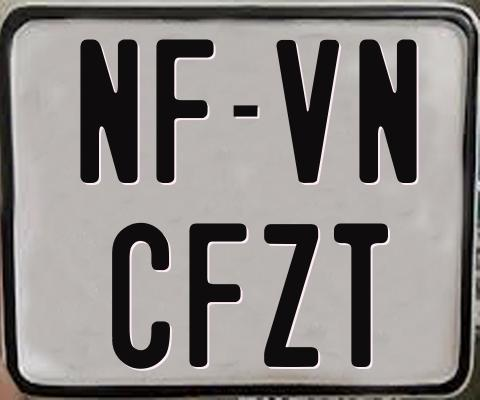C: (109, 220, 171, 366)
F: (187, 223, 247, 369), (155, 36, 213, 181)
N: (78, 38, 141, 187), (359, 39, 421, 188)
T: (333, 220, 392, 367)
V: (275, 39, 343, 183)
Z: (263, 222, 323, 368)
